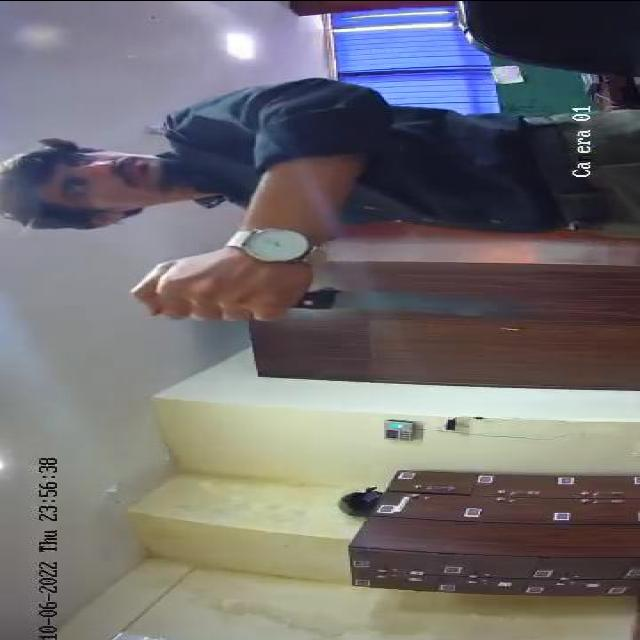Sharp-Object: (116, 275, 532, 332)
